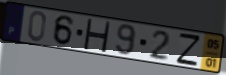0: (26, 10, 48, 43)
2: (148, 29, 173, 63)
6: (52, 14, 76, 47)
9: (115, 23, 138, 57)
H: (82, 17, 112, 54)
Z: (175, 32, 202, 67)
